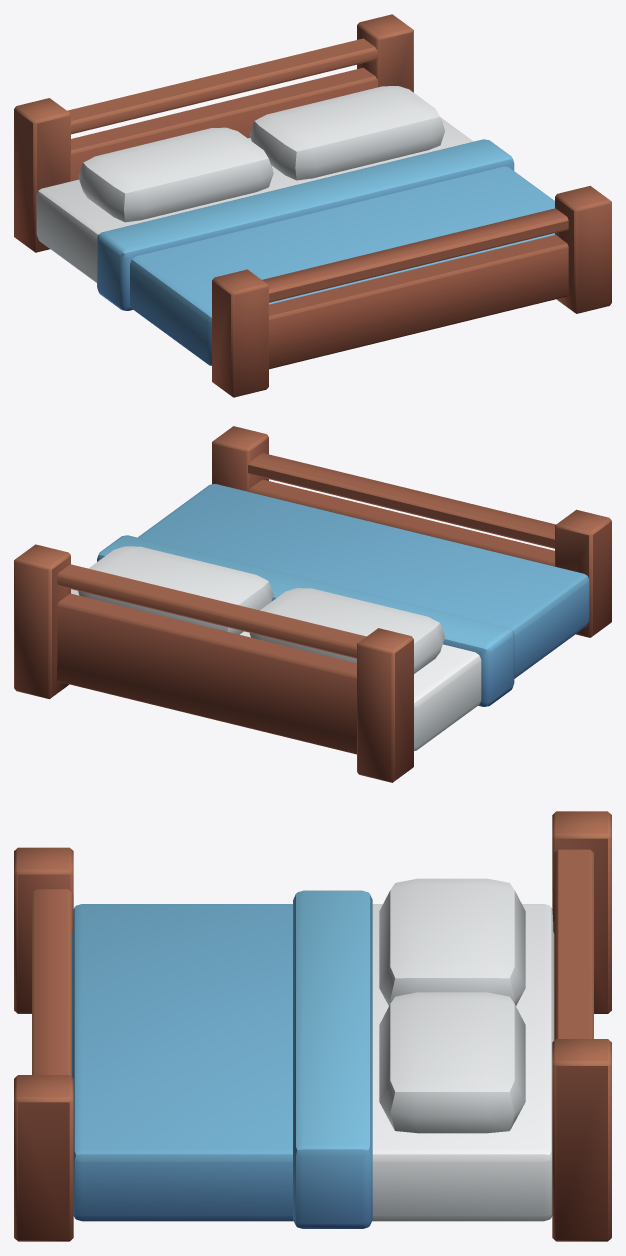
File: bed_double_B.obj
3 renders of one model, top to bottom at view 1: azimuth 30°, elevation 25°; view 2: azimuth 150°, elevation 25°; view 3: azimuth 270°, elevation 25°, orthographic. The views are drawn at different scales.
Parts seen in each view (by area): view 1: bed_double_B_Cube.001; view 2: bed_double_B_Cube.001; view 3: bed_double_B_Cube.001.
Boxes of the visible parts, bbox=[...] form: bed_double_B_Cube.001: bbox=[14, 14, 611, 397]; bed_double_B_Cube.001: bbox=[14, 426, 611, 782]; bed_double_B_Cube.001: bbox=[14, 811, 611, 1241].
Size of the model in its own units: 3.1 by 1 by 3.
1 material, 1 textured.
